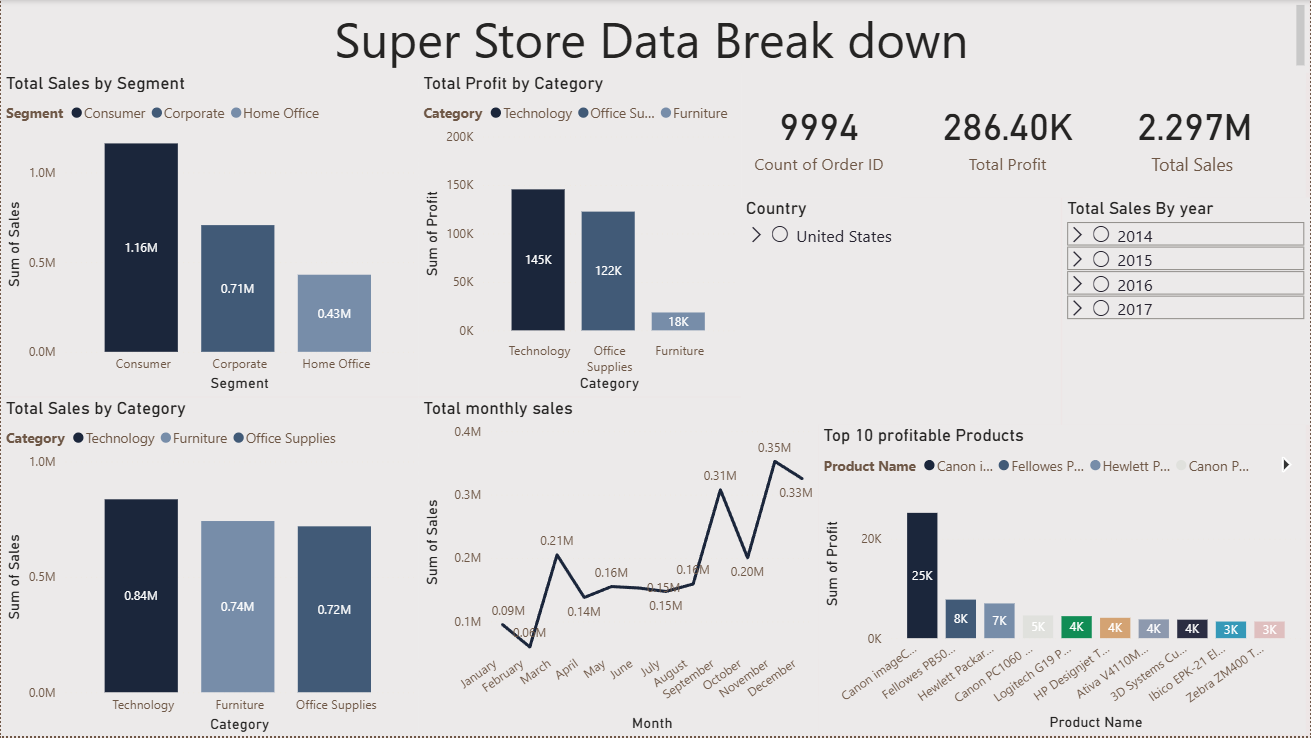

The page's visual inventory and layout, read from the dashboard file:
{"tool":"powerbi","page":{"name":"Page 1","canvas":[1280,720],"ordinal":0},"visuals":[{"type":"card","fields":{"Values":["Sum(Fact_orders.Sales)"]},"box":[1059,70.9,217.7,122.3],"z":0},{"type":"columnChart","title":"Total Sales by Category","fields":{"Category":["Dim_products.Category"],"Y":["Sum(Fact_orders.Sales)"],"Series":["Dim_products.Category"]},"box":[0,388.3,408.9,332.1],"z":1000},{"type":"columnChart","title":"Total Sales by Segment ","fields":{"Category":["Dim_Customers.Segment"],"Y":["Sum(Fact_orders.Sales)"],"Series":["Dim_Customers.Segment"]},"box":[0,71.4,408.9,317],"z":2000},{"type":"listSlicer","title":"Total Sales By year","fields":{"Values":["Fact_orders.Order Date.Variation.Date Hierarchy.Year","Fact_orders.Order Date.Variation.Date Hierarchy.Quarter","Fact_orders.Order Date.Variation.Date Hierarchy.Month","Fact_orders.Order Date.Variation.Date Hierarchy.Day"]},"box":[1038.2,193.2,242.1,222.6],"z":3000},{"type":"card","fields":{"Values":["Sum(Fact_orders.Profit)"]},"box":[895.1,70.9,179.8,122.3],"z":4000},{"type":"card","fields":{"Values":["CountNonNull(Fact_orders.Order ID)"]},"box":[705.6,70.9,189.5,122.3],"z":5000},{"type":"lineChart","title":"Total monthly sales ","fields":{"Y":["Sum(Fact_orders.Sales)"],"Category":["Fact_orders.Order Date.Variation.Date Hierarchy.Month"]},"box":[408.9,388.3,391.1,332.1],"z":6000},{"type":"columnChart","title":"Total Profit by Category","fields":{"Category":["Dim_products.Category"],"Y":["Sum(Fact_orders.Profit)"],"Series":["Dim_products.Category"]},"box":[408.9,71.4,315.6,317],"z":7000},{"type":"columnChart","title":"Top 10 profitable Products ","fields":{"Category":["Dim_products.Product Name"],"Y":["Sum(Fact_orders.Profit)"],"Series":["Dim_products.Product Name"]},"box":[799.7,415.8,476.9,303.3],"z":8000},{"type":"textbox","box":[0,0,1280.3,71.4],"z":9000},{"type":"listSlicer","fields":{"Values":["Dim_Customers.Country","Dim_Customers.City"]},"box":[724,193.2,313,222.6],"z":9001}]}

Visuals, with their boxes in screenshot pixels (x1, y1, x2, y2), scaled from the page's 1280x720 canvas onto the 1311x738 screenshot:
card - Sum(Fact_orders.Sales): <region>1085, 73, 1308, 198</region>
"Total Sales by Category" columnChart: <region>0, 398, 419, 737</region>
"Total Sales by Segment " columnChart: <region>0, 73, 419, 398</region>
"Total Sales By year" listSlicer: <region>1063, 198, 1310, 426</region>
card - Sum(Fact_orders.Profit): <region>917, 73, 1101, 198</region>
card - CountNonNull(Fact_orders.Order ID): <region>723, 73, 917, 198</region>
"Total monthly sales " lineChart: <region>419, 398, 819, 737</region>
"Total Profit by Category" columnChart: <region>419, 73, 742, 398</region>
"Top 10 profitable Products " columnChart: <region>819, 426, 1308, 737</region>
textbox: <region>0, 0, 1310, 73</region>
listSlicer - Dim_Customers.Country x Dim_Customers.City: <region>742, 198, 1062, 426</region>
